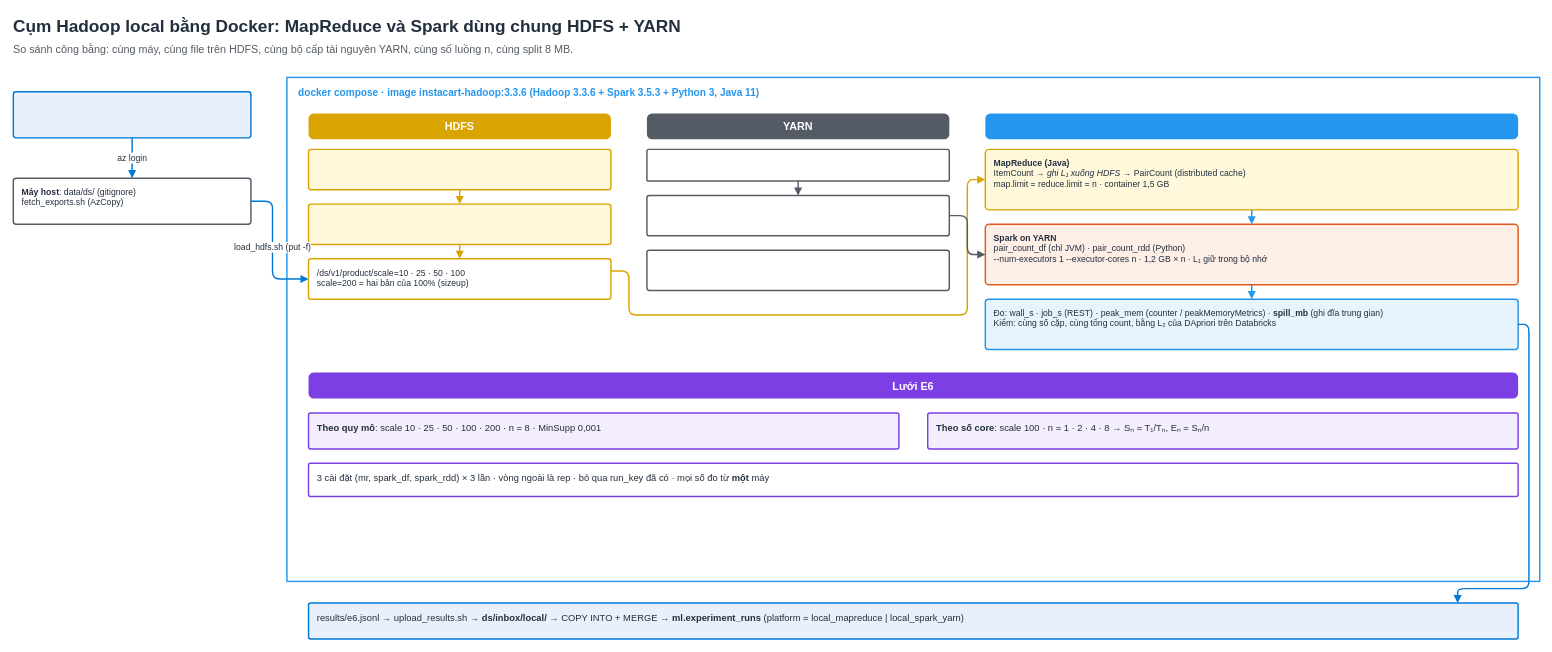
Image size: 1552x652. Some labels were removed from this diagram. Each missing label, with the centre of its shape:
ADLS ds/exports/v1/product/scale=*/ + _manifest.json: point 131,114
client · bench.py (E6): point 1251,126
datanode1 · datanode2 replication 2 · block 8 MB (dfs.blocksize lúc put): point 459,224
historyserver :19888 (counter MR) sparkhistory :18080 (executor metrics): point 798,270
namenode :9870 metadata, block map: point 459,169
nodemanager : 8 vcores · 12 GB (limit Docker ≤ CPU cấp cho Docker Desktop): point 798,215
resourcemanager :8088: point 798,164
